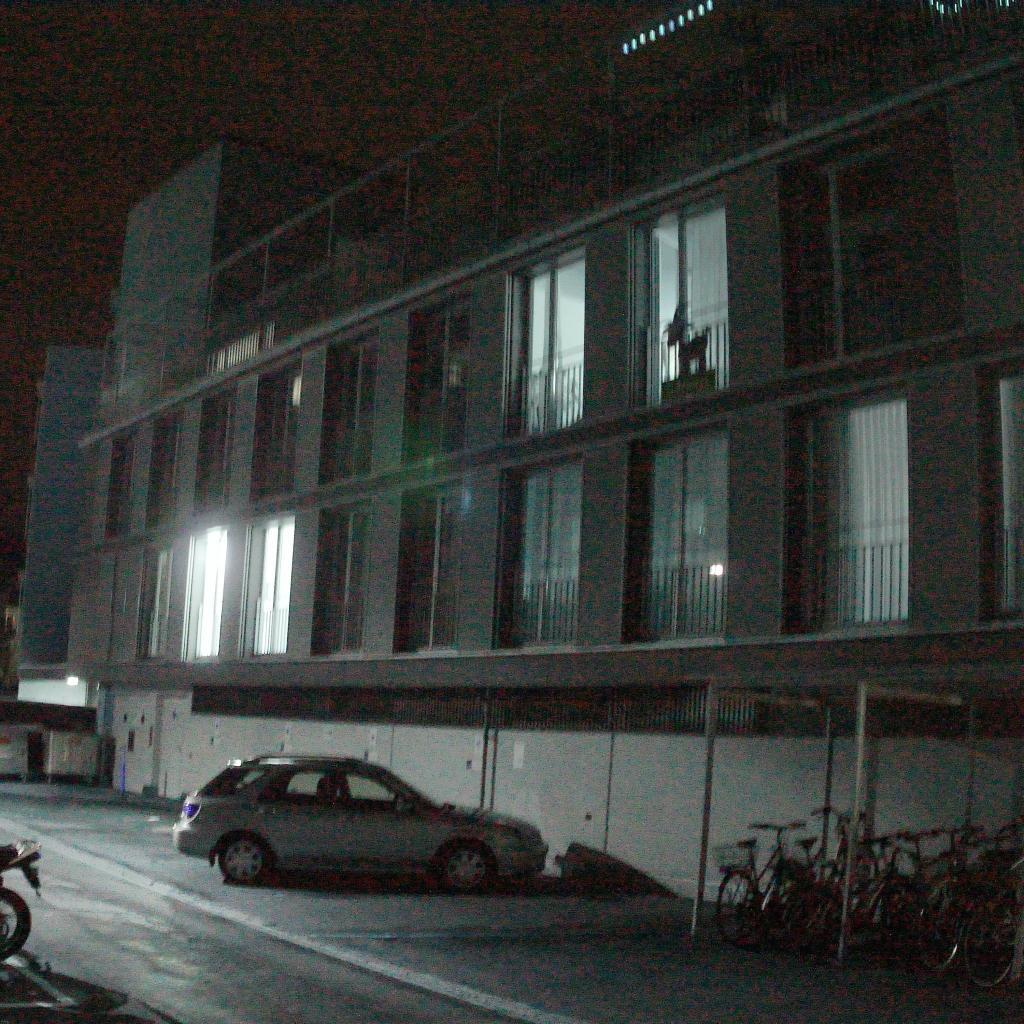balcony-fence: (94, 0, 1024, 428), (802, 239, 959, 362), (803, 520, 911, 631), (637, 546, 725, 639), (648, 301, 728, 403), (508, 346, 585, 437), (508, 565, 580, 647), (407, 389, 466, 458), (403, 575, 458, 648), (326, 409, 375, 481), (318, 592, 366, 653), (245, 598, 291, 656), (183, 611, 219, 660)
car: (172, 755, 550, 895)
facade: (0, 0, 1024, 898)
non-building-infrastructure: (691, 665, 1024, 993)
street: (0, 780, 1024, 1024)
window: (792, 124, 962, 362), (804, 396, 908, 630), (640, 431, 727, 637), (646, 205, 729, 404), (510, 246, 585, 436), (512, 461, 581, 641), (408, 300, 472, 460), (406, 487, 463, 646), (327, 335, 378, 480), (244, 523, 295, 656), (322, 509, 371, 647), (258, 365, 300, 496), (186, 525, 226, 657), (199, 392, 234, 508)
